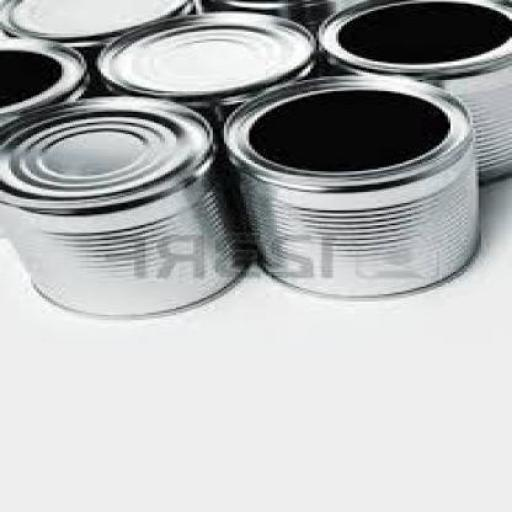metal: (221, 71, 484, 296), (3, 93, 252, 317), (319, 0, 511, 186), (92, 7, 319, 101), (2, 0, 202, 58), (3, 35, 92, 129)
